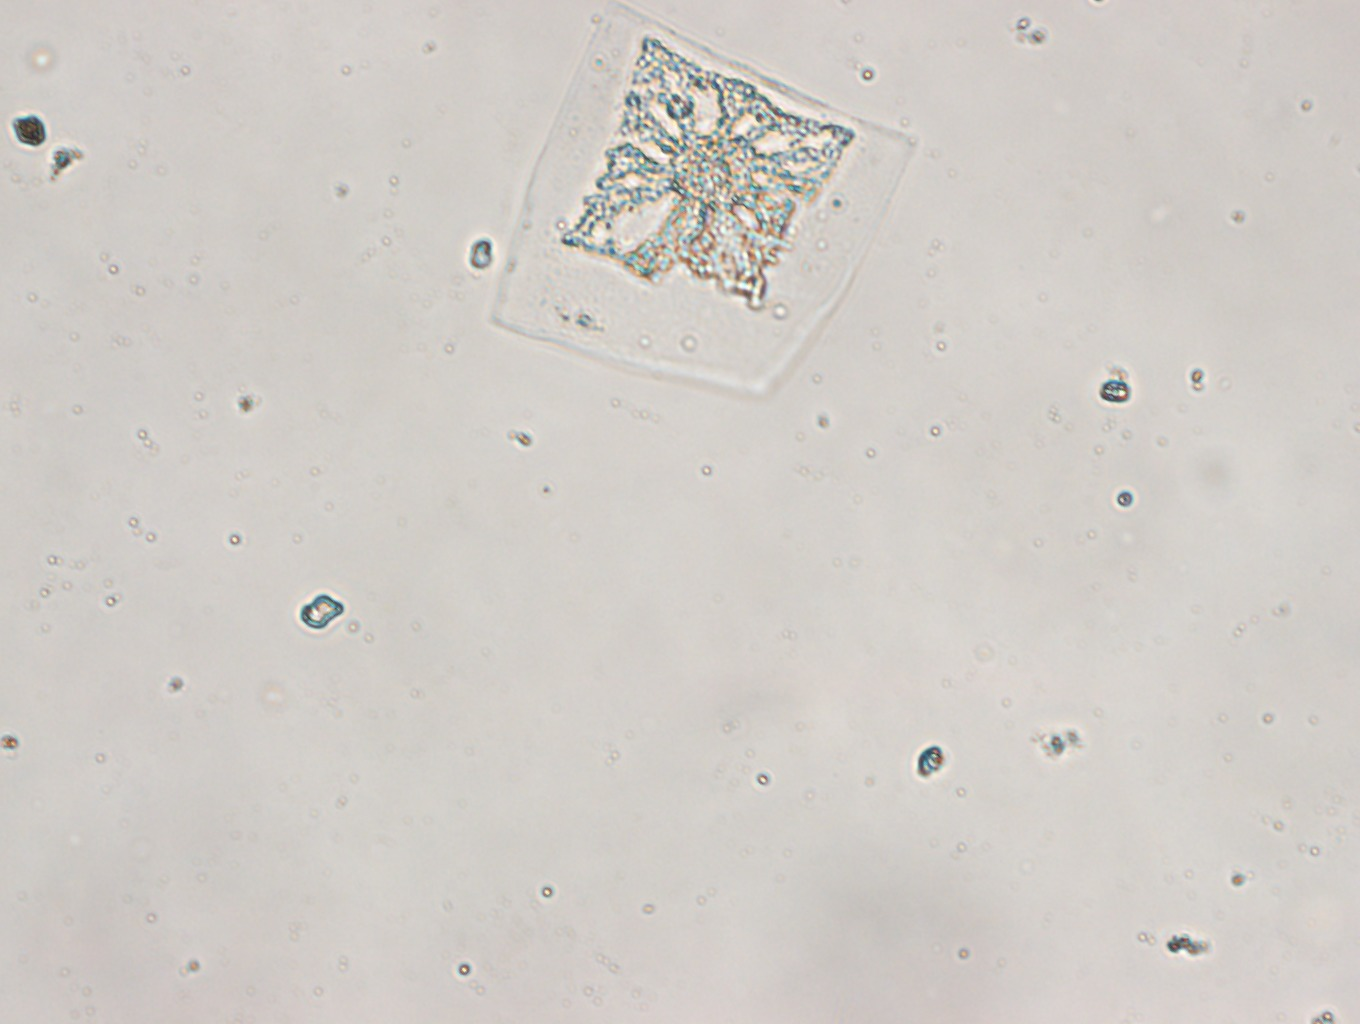helicotheca: (488, 5, 920, 404)
